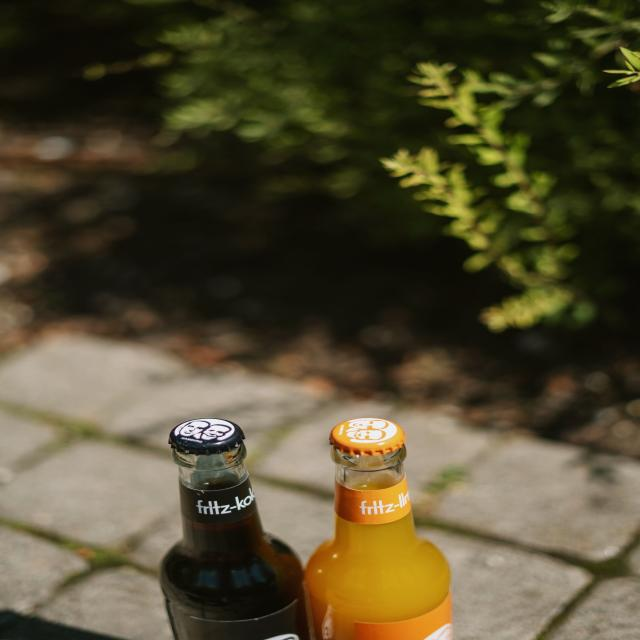Bottle: (161, 419, 308, 639), (306, 419, 452, 639)
